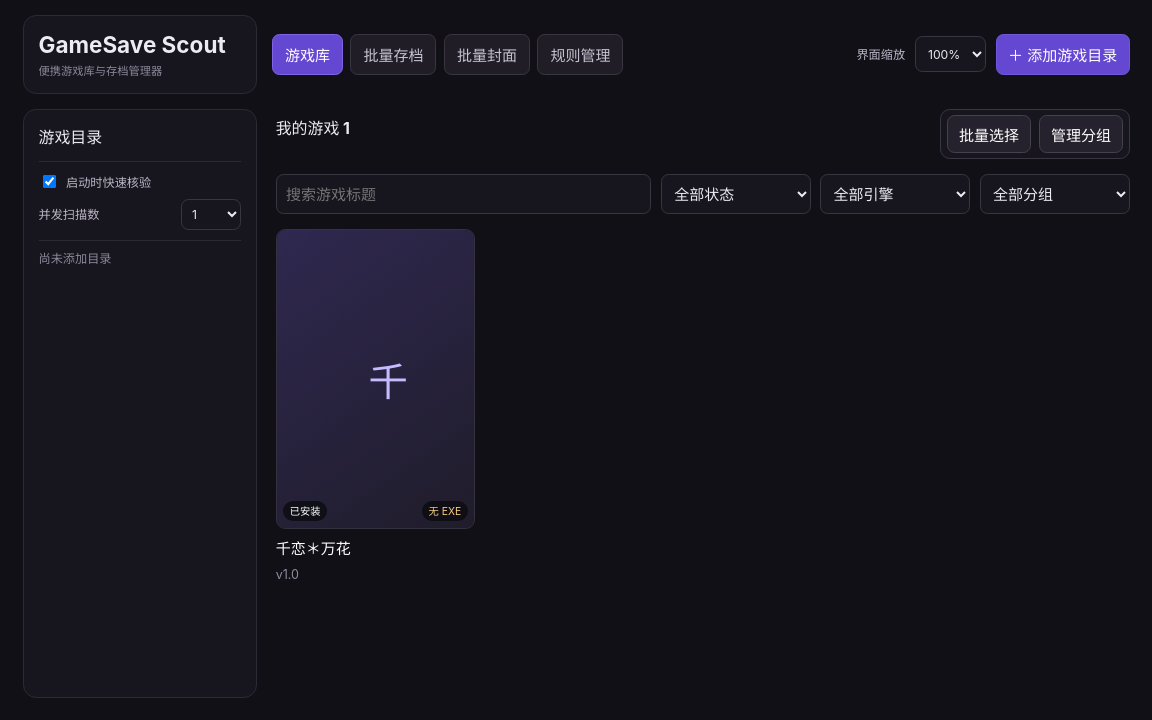
Test: App › opens a prefilled game-specific save rule without mixing the version into its title
Click the button with test id "game-card-game-1" at [375, 405], box 276,229 -> 475,582
(page scrolled)
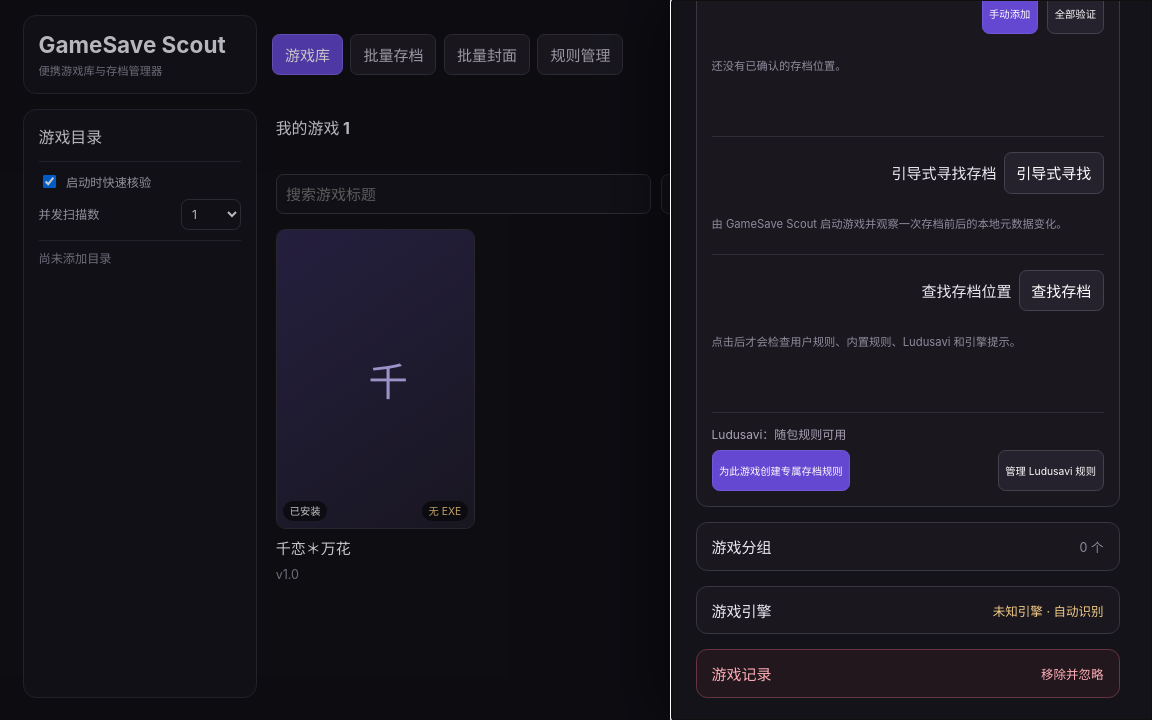
Click the button with test id "create-game-save-rule" at [781, 471], box 712,450 -> 850,491
(page scrolled)
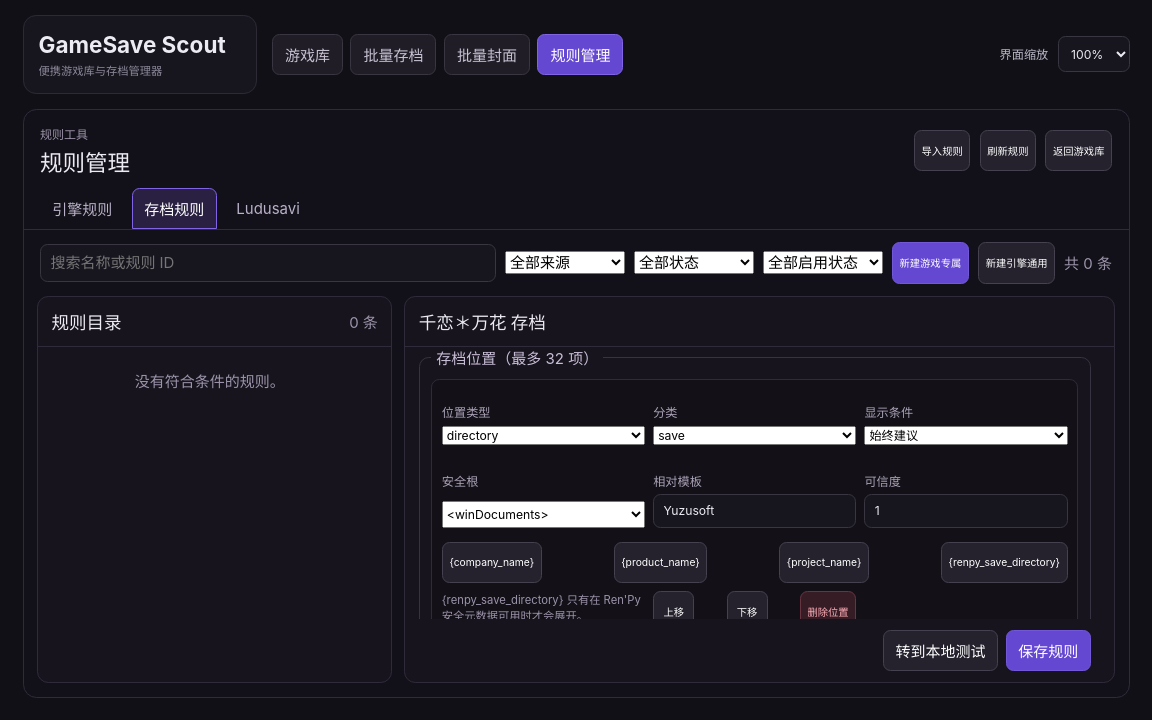
expect the dropdown with test id "location-root" shows "<winDocuments>": met, box 442,501 -> 645,528
